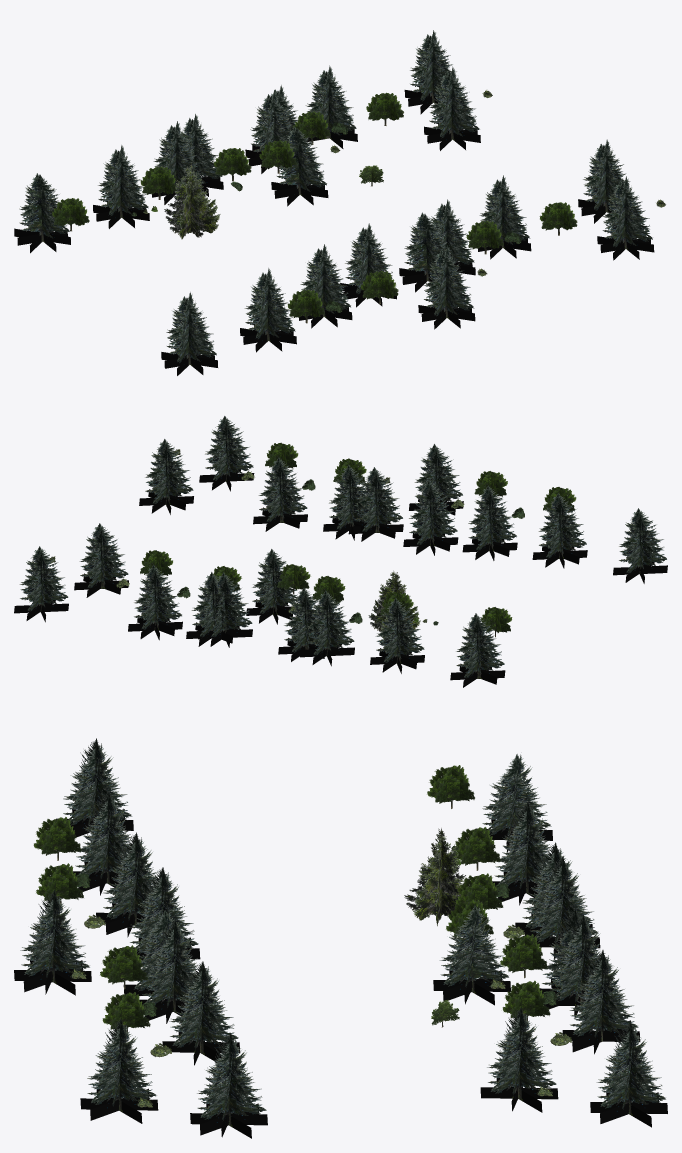
Rendered from trees.fbx.
The picture shows the model from 3 angles, top to bottom: view 1: azimuth 30°, elevation 25°; view 2: azimuth 150°, elevation 25°; view 3: azimuth 270°, elevation 25°; orthographic projection. The views are drawn at different scales.
Parts seen in each view (by area): view 1: Pine2.015, Pine2.008, Pine2.010, Pine2.007, Pine2.005, Pine2.002, Pine2.003, pine1, Pine2, Pine2.019, Pine2.006, Pine2.014 (+19 smaller); view 2: Pine2.006, Pine2.013, Pine2.002, Pine2.007, Pine2.016, Pine2.014, Pine2.003, Pine2.011, Pine2.019, Pine2.015, Pine2.008, Pine2.009 (+18 smaller); view 3: Pine2.014, Pine2.019, Pine2.005, Pine2.010, Pine2.015, Pine2, Pine2.016, Pine2.011, Pine2.006, Pine2.007, Pine2.002, Pine2.012 (+19 smaller).
Boxes of the visible parts, left/top/right/bottom form: Pine2.015: left=424, top=66, right=480, bottom=150; Pine2.008: left=161, top=292, right=217, bottom=375; Pine2.010: left=597, top=176, right=654, bottom=260; Pine2.007: left=240, top=268, right=296, bottom=352; Pine2.005: left=418, top=245, right=475, bottom=329; Pine2.002: left=93, top=145, right=149, bottom=228; Pine2.003: left=14, top=173, right=70, bottom=253; pine1: left=164, top=164, right=220, bottom=239; Pine2: left=271, top=126, right=328, bottom=206; Pine2.019: left=404, top=30, right=459, bottom=114; Pine2.006: left=299, top=244, right=352, bottom=328; Pine2.014: left=578, top=139, right=630, bottom=223; Pine2.006: left=462, top=485, right=517, bottom=560; Pine2.013: left=403, top=480, right=458, bottom=555; Pine2.002: left=370, top=598, right=424, bottom=673; Pine2.007: left=532, top=493, right=587, bottom=568; Pine2.016: left=128, top=564, right=182, bottom=640; Pine2.014: left=139, top=439, right=193, bottom=514; Pine2.003: left=450, top=613, right=505, bottom=687; Pine2.011: left=253, top=457, right=307, bottom=531; Pine2.019: left=14, top=546, right=68, bottom=622; Pine2.015: left=74, top=523, right=128, bottom=597; Pine2.008: left=613, top=508, right=667, bottom=583; Pine2.009: left=348, top=467, right=403, bottom=541; Pine2.014: left=190, top=1032, right=267, bottom=1138; Pine2.019: left=590, top=1022, right=667, bottom=1127; Pine2.005: left=14, top=889, right=91, bottom=995; Pine2.010: left=80, top=1018, right=158, bottom=1123; Pine2.015: left=480, top=1007, right=558, bottom=1112; Pine2: left=433, top=905, right=510, bottom=1005; Pine2.016: left=562, top=950, right=640, bottom=1054; Pine2.011: left=162, top=961, right=240, bottom=1065; Pine2.006: left=96, top=832, right=158, bottom=937; Pine2.007: left=73, top=791, right=132, bottom=895; Pine2.002: left=492, top=801, right=551, bottom=905; Pine2.012: left=139, top=919, right=198, bottom=1023.
Bounding box in the file's own units: 30884 × 4975 × 26231.
Materials: 8 (8 with a texture image).
